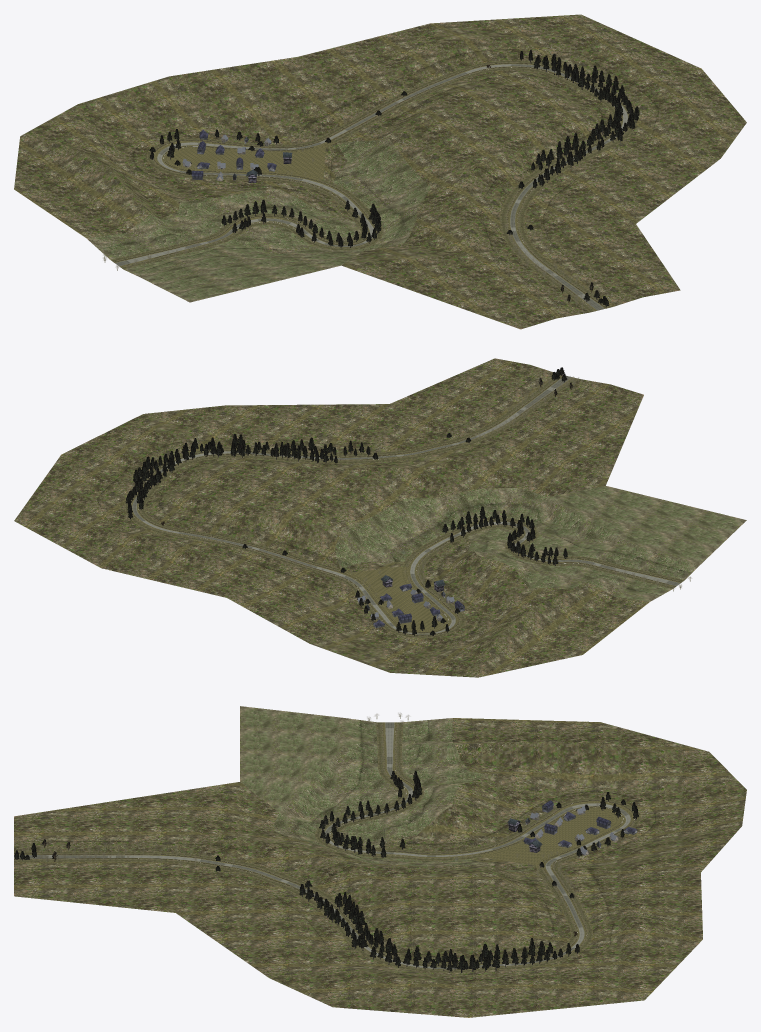
File: stage-ghos-env.glb
3 renders of one model, top to bottom at view 1: azimuth 30°, elevation 25°; view 2: azimuth 150°, elevation 25°; view 3: azimuth 270°, elevation 25°, orthographic. The views are drawn at different scales.
Visible parts, largest first — view 1: env part 0; view 2: env part 0; view 3: env part 0.
Part boxes in pixels (left/top/right/bottom): env part 0: left=14, top=14, right=746, bottom=329; env part 0: left=14, top=358, right=746, bottom=677; env part 0: left=14, top=706, right=746, bottom=1017.
Size of the model in its own units: 2113 by 149 by 2066.
32 materials, 32 textured.
